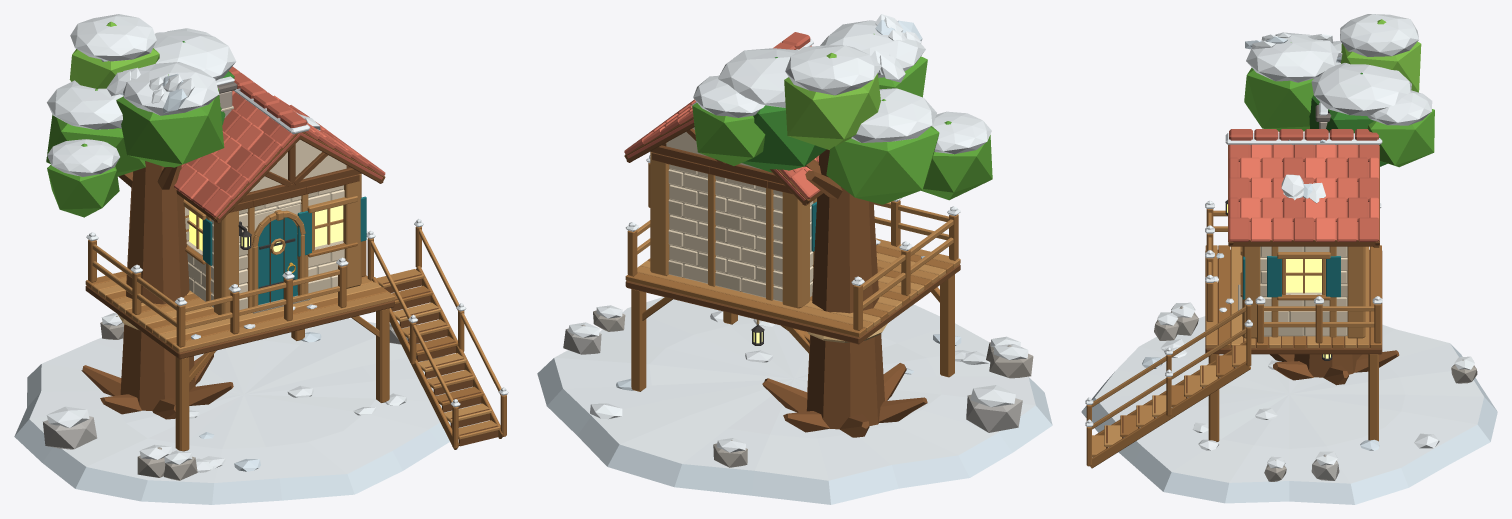
Rendered from treehouse_exterior.glb.
3 views of the same model, side by side, from view 1: azimuth 30°, elevation 25°; view 2: azimuth 150°, elevation 25°; view 3: azimuth 270°, elevation 25° (orthographic). The views are drawn at different scales.
Visible parts, largest first — view 1: treehouse_exterior, treehouse_exterior_roof, part_door_leaf; view 2: treehouse_exterior, treehouse_exterior_roof; view 3: treehouse_exterior, treehouse_exterior_roof.
Boxes of the visible parts, x1=… form: treehouse_exterior: x1=14, y1=161, x2=508, y2=504; treehouse_exterior_roof: x1=46, y1=14, x2=385, y2=223; part_door_leaf: x1=258, y1=217, x2=297, y2=304; treehouse_exterior: x1=537, y1=149, x2=1052, y2=504; treehouse_exterior_roof: x1=624, y1=14, x2=992, y2=205; treehouse_exterior: x1=1081, y1=200, x2=1497, y2=504; treehouse_exterior_roof: x1=1225, y1=14, x2=1434, y2=246.
Size of the model in its own units: 7.6 by 6.74 by 7.18.
